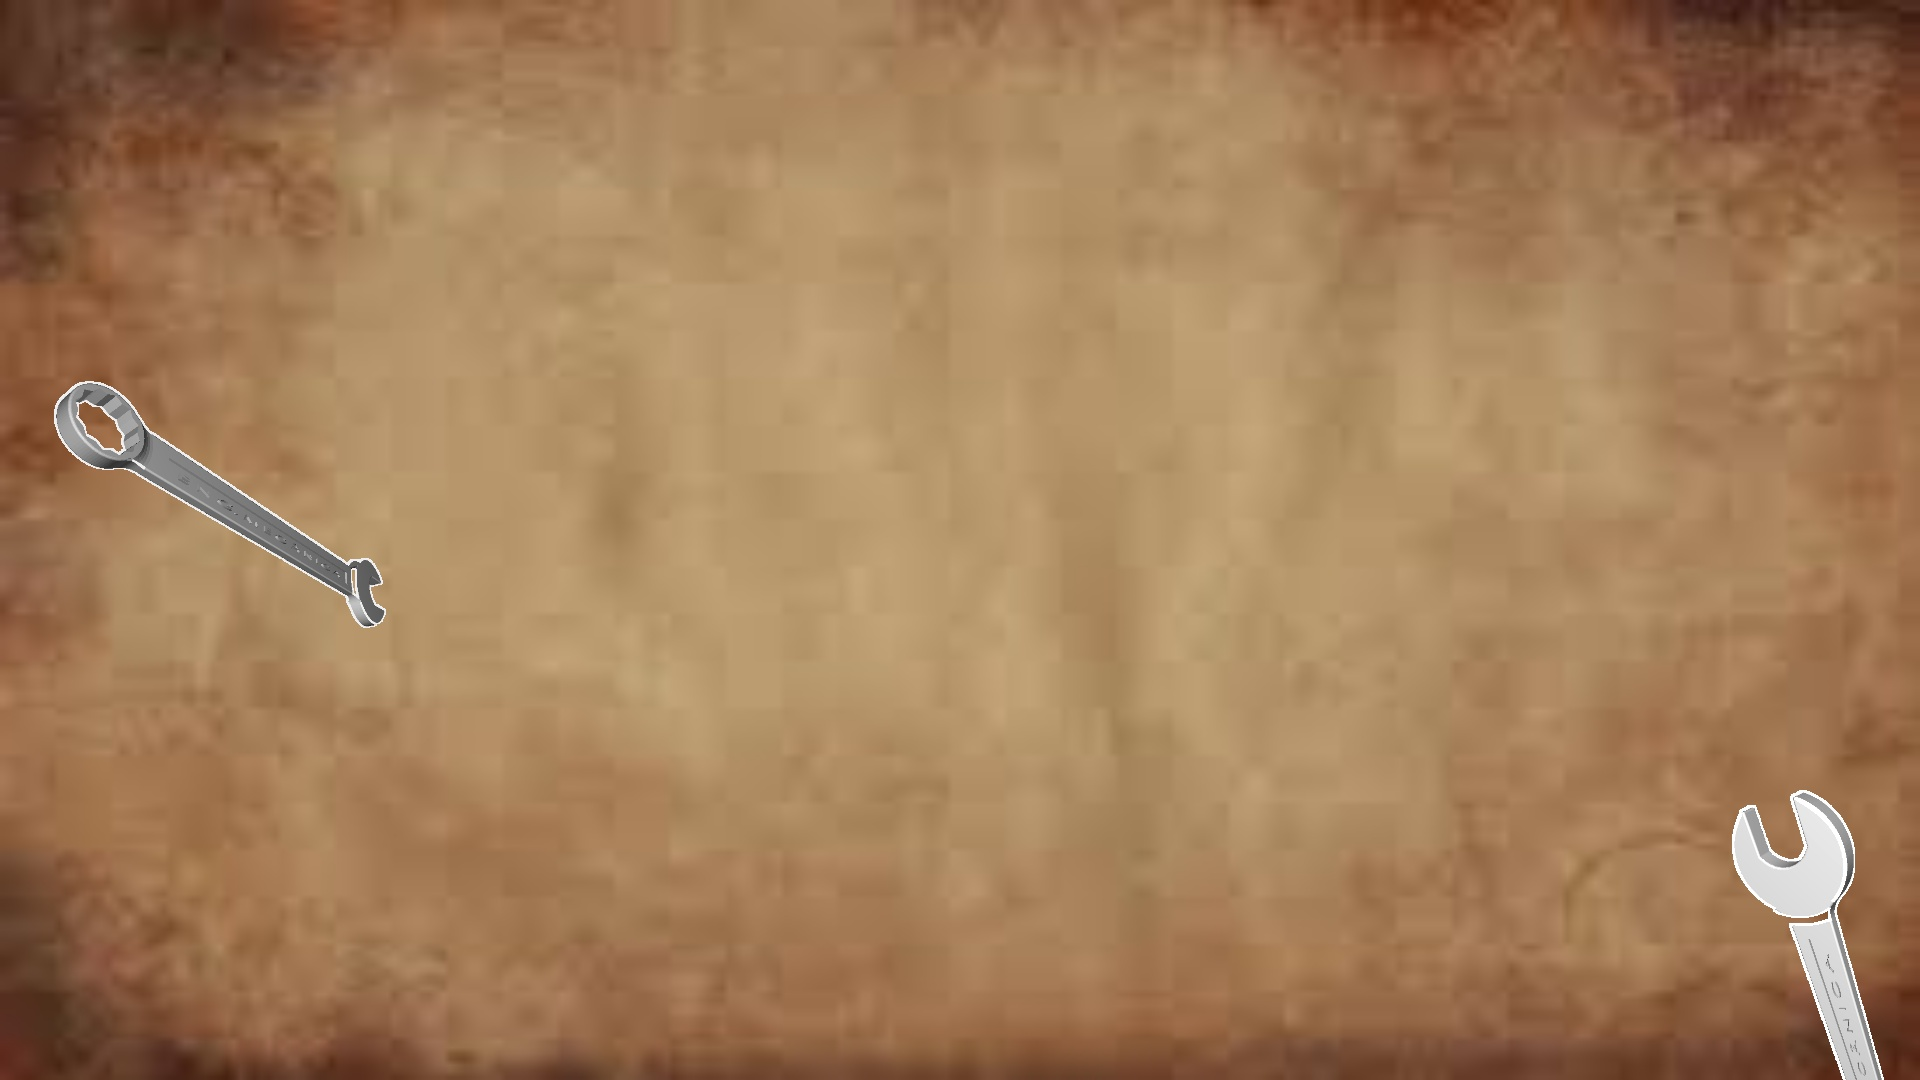Mixed Key: (54, 381, 385, 626), (1731, 790, 1883, 1079)
